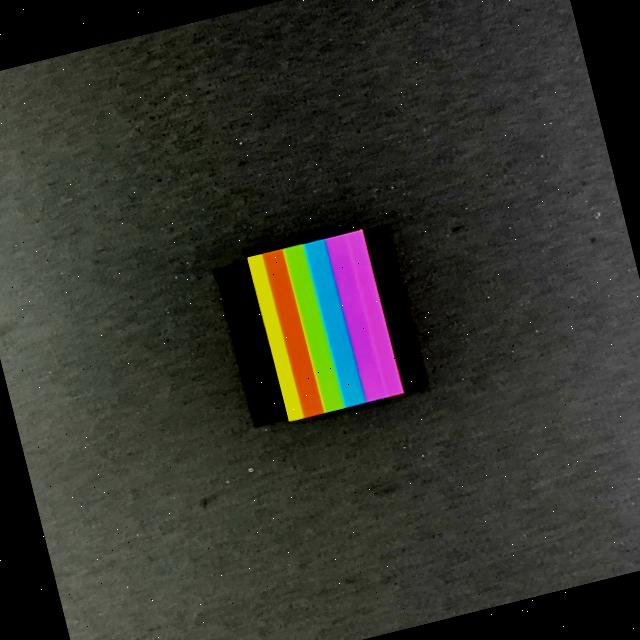Eraser: (186, 178, 466, 462)
